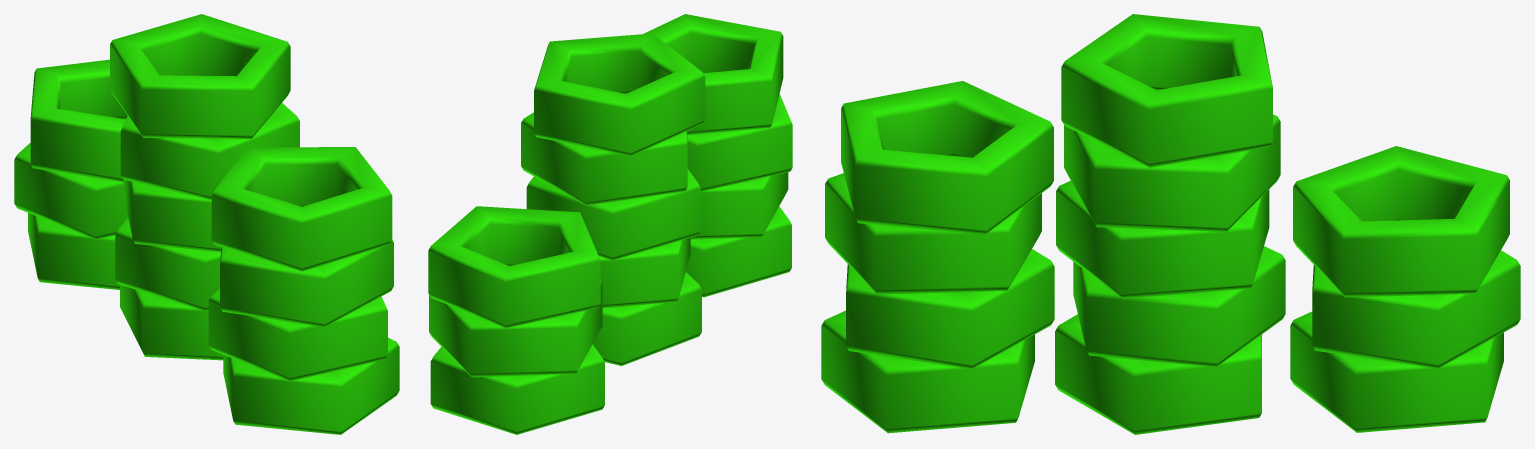
Rendered from Tire_Pile_03_Lod2.fbx.
3 views of the same model, side by side, from view 1: azimuth 30°, elevation 25°; view 2: azimuth 150°, elevation 25°; view 3: azimuth 270°, elevation 25° (orthographic). The views are drawn at different scales.
Visible parts, largest first — view 1: Tire_Pile_03_Lod2; view 2: Tire_Pile_03_Lod2; view 3: Tire_Pile_03_Lod2.
Part boxes in pixels (left/top/right/bottom): Tire_Pile_03_Lod2: left=14, top=14, right=399, bottom=434; Tire_Pile_03_Lod2: left=428, top=14, right=792, bottom=434; Tire_Pile_03_Lod2: left=821, top=14, right=1520, bottom=434.
Bounding box in the file's own units: 78.02 × 123 × 237.
